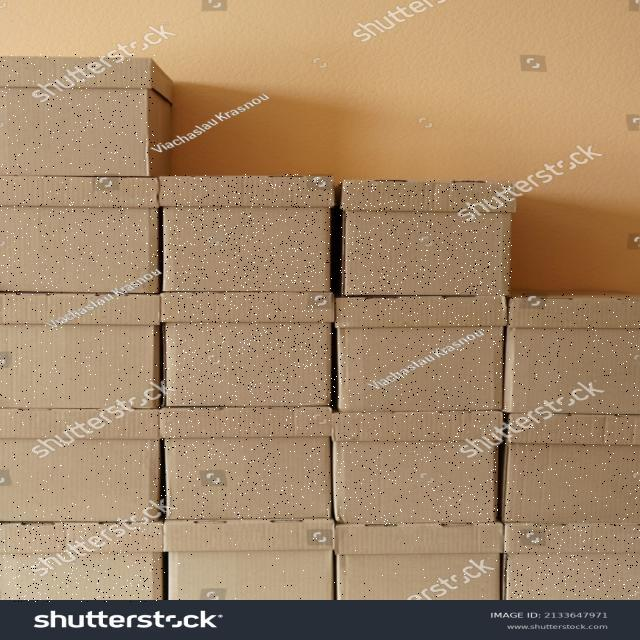BoxFace: (154, 402, 332, 520), (161, 174, 332, 294), (340, 180, 512, 296), (162, 290, 334, 406), (332, 297, 506, 410), (336, 410, 498, 526), (0, 176, 159, 294), (0, 292, 159, 410), (0, 54, 155, 174), (0, 408, 159, 524), (504, 294, 640, 410), (504, 411, 640, 522), (168, 520, 337, 600), (0, 522, 165, 602), (336, 525, 498, 599), (504, 524, 640, 599)
